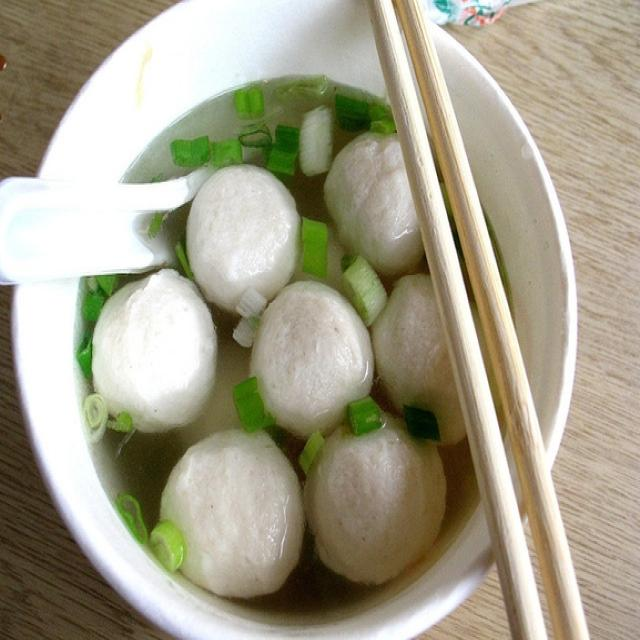熟制海鲜: (71, 95, 529, 575)
